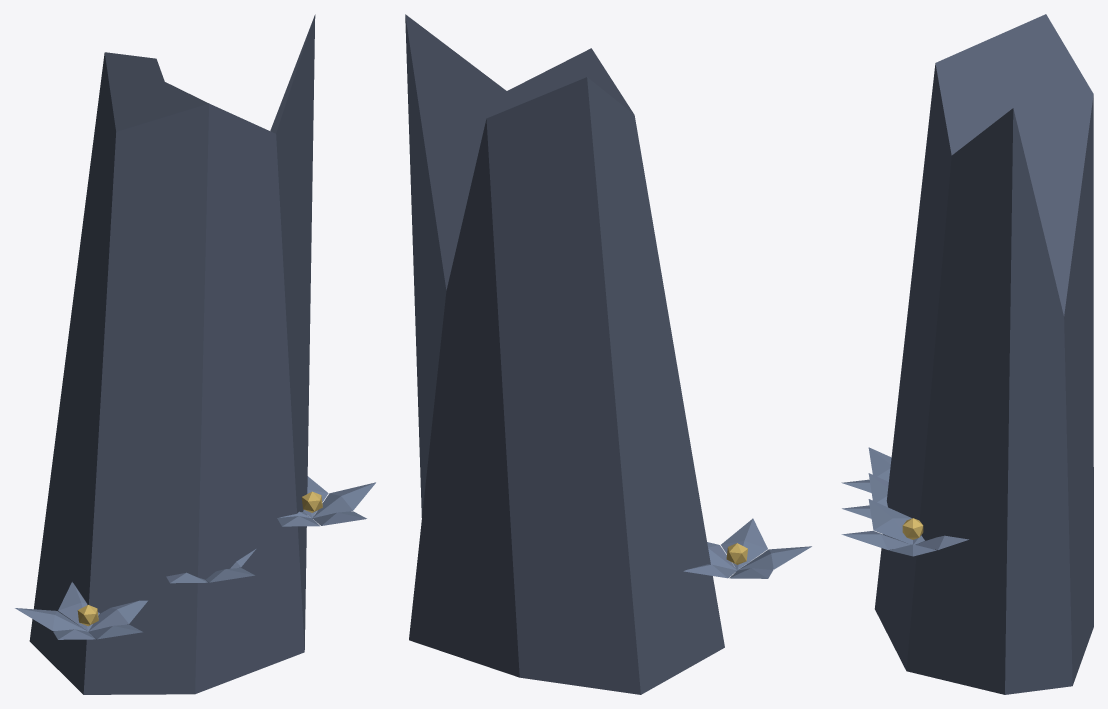
The model's file is map-boundaries-v5__grave_11.glb.
3 renders of one model, left to right at view 1: azimuth 30°, elevation 25°; view 2: azimuth 150°, elevation 25°; view 3: azimuth 270°, elevation 25°, orthographic. The views are drawn at different scales.
Parts seen in each view (by area): view 1: grave_11; view 2: grave_11; view 3: grave_11.
Part boxes in pixels (x1,y1,x2,y2): grave_11: (15, 14, 375, 694); grave_11: (405, 14, 811, 694); grave_11: (841, 14, 1093, 694).
Size of the model in its own units: 1.22 by 1.99 by 0.7685.
